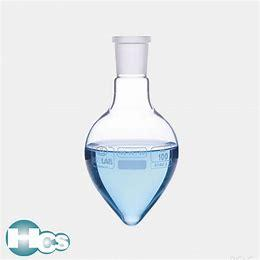Pear shaped flask: (83, 27, 186, 225)
